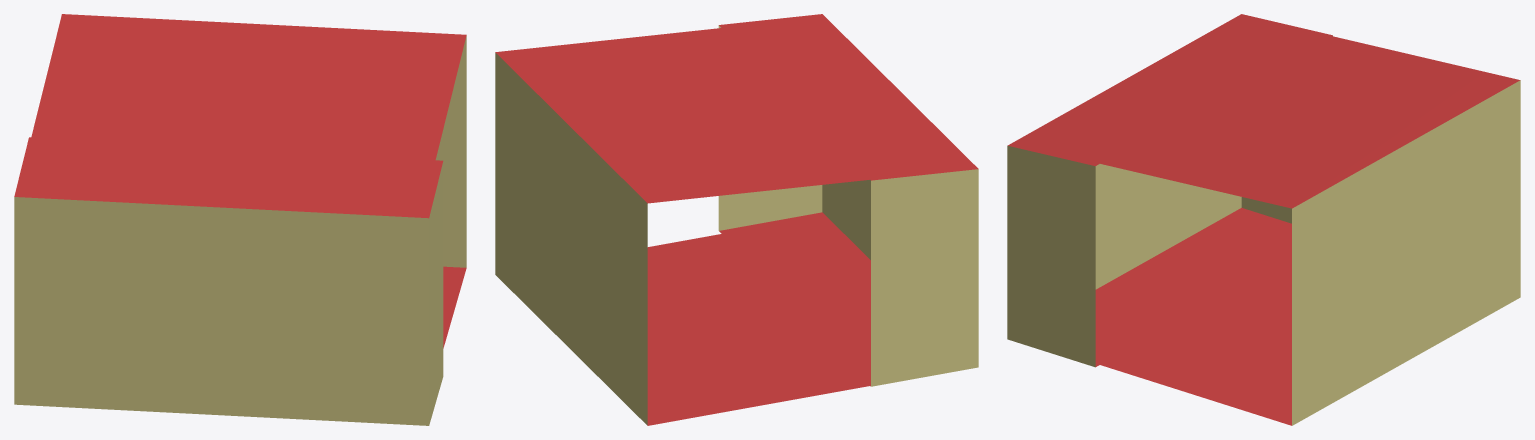
3 views of the same model, side by side, from view 1: azimuth 30°, elevation 25°; view 2: azimuth 150°, elevation 25°; view 3: azimuth 270°, elevation 25° (orthographic). The views are drawn at different scales.
Bounding box in the file's own units: 14.87 × 14.78 × 6.91.
